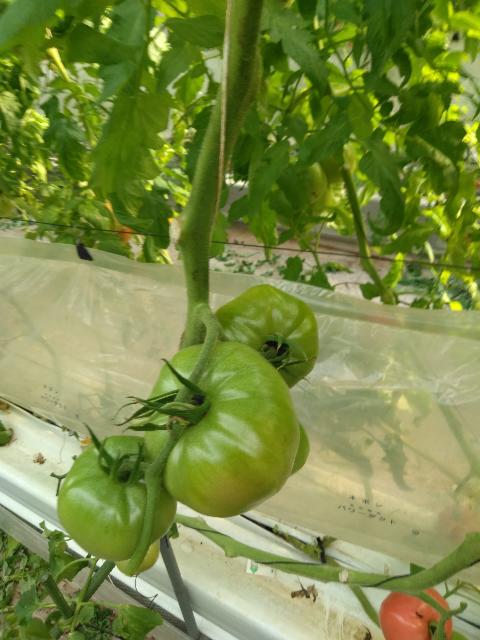b_fully_ripened: (378, 588, 453, 640)
b_green: (144, 340, 300, 518), (58, 436, 177, 561), (203, 284, 320, 390), (112, 537, 160, 576)
